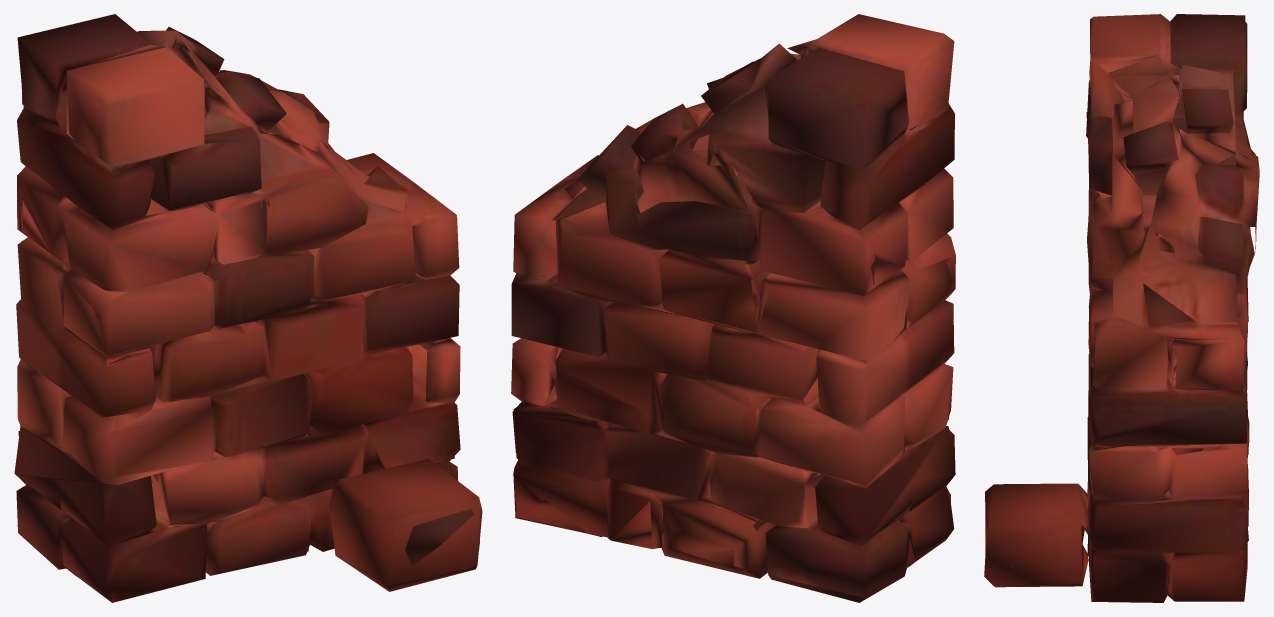
Rendered from x-wall-ruined-brick.glb.
The picture shows the model from 3 angles, left to right: view 1: azimuth 30°, elevation 25°; view 2: azimuth 150°, elevation 25°; view 3: azimuth 270°, elevation 25°; orthographic projection. The views are drawn at different scales.
Parts seen in each view (by area): view 1: geometry_0; view 2: geometry_0; view 3: geometry_0.
Part boxes in pixels (box(x1,y1,x2,y2)): geometry_0: box(14, 14, 482, 602); geometry_0: box(511, 14, 955, 602); geometry_0: box(984, 14, 1259, 602).
Bounding box in the file's own units: 0.7388 × 1 × 0.5638.
1 material, 1 textured.
